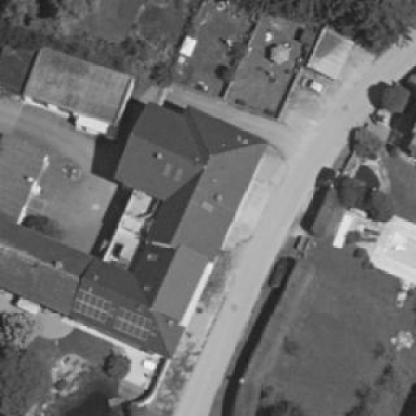solar-pv-panel: (112, 305, 155, 343), (71, 287, 114, 324)
